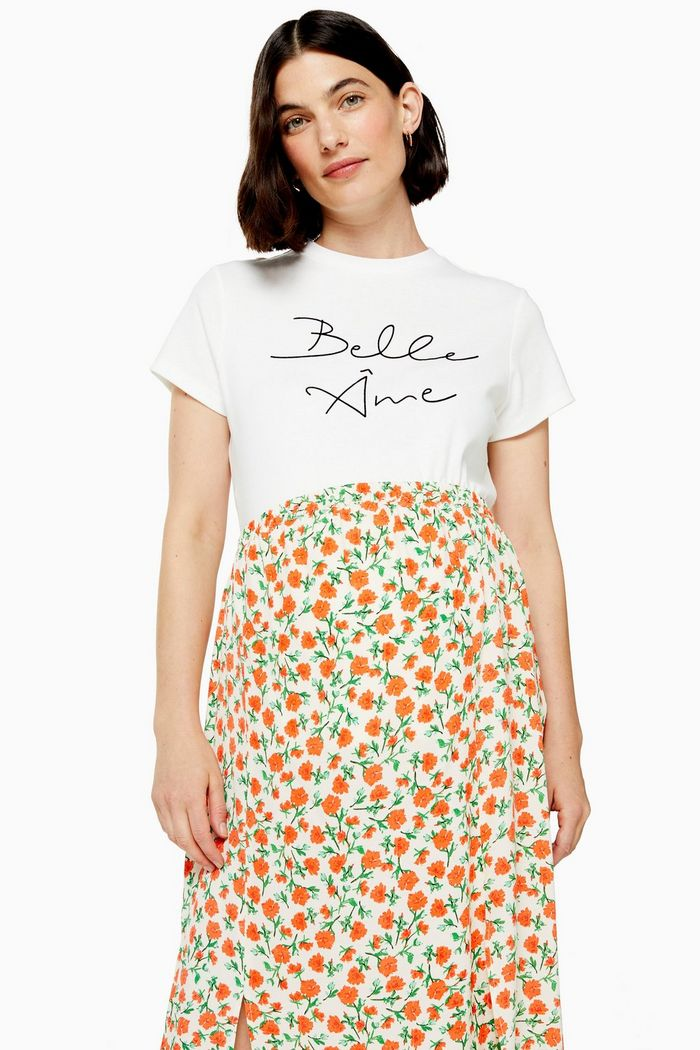C_dress: (145, 279, 580, 1021)
